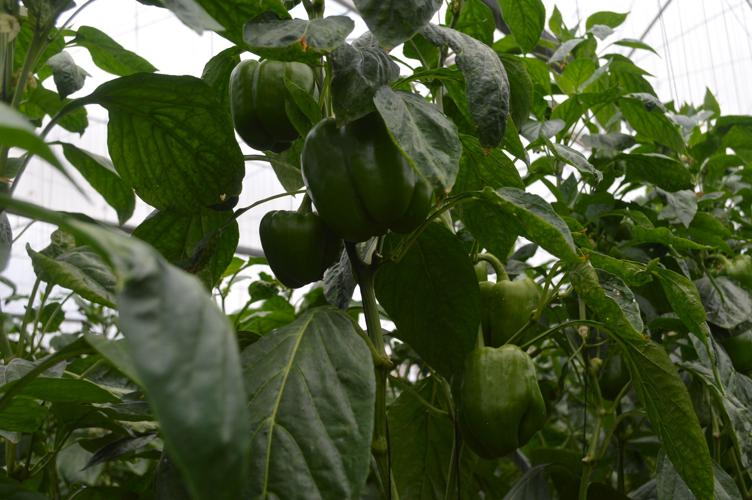BellPepper: (294, 112, 436, 244), (445, 340, 544, 454), (224, 57, 319, 149), (251, 208, 340, 286), (474, 271, 541, 344)
